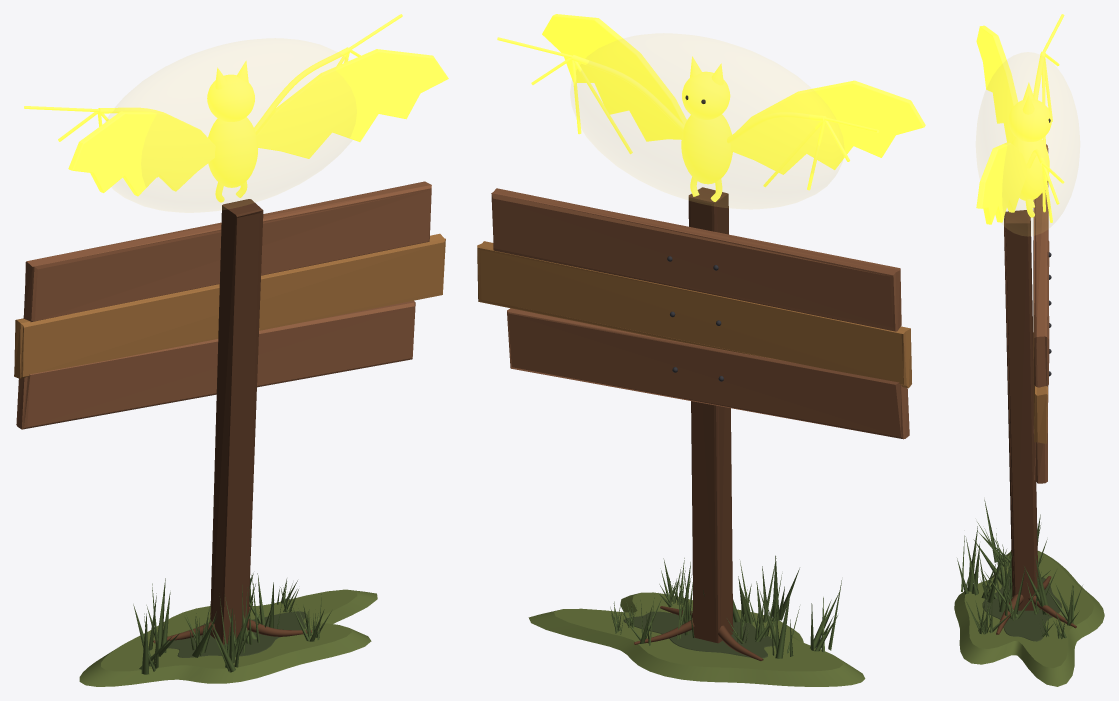
The model's file is BAYOU_BAT_SIGN.glb.
3 views of the same model, side by side, from view 1: azimuth 30°, elevation 25°; view 2: azimuth 150°, elevation 25°; view 3: azimuth 270°, elevation 25° (orthographic). The views are drawn at different scales.
Parts seen in each view (by area): view 1: SignFace (×3), VFX_Pulse_BatHalo, Glow_Bat_Wing (×2), Post, Ground, Grass, Glow_Bat_Body, Glow_Bat_WingBones (×2), Ground_Mud, Glow_Bat_Head, Roots; view 2: SignFace (×3), VFX_Pulse_BatHalo, Glow_Bat_Wing (×2), Ground, Post, Grass, Glow_Bat_WingBones (×2), Glow_Bat_Body, Ground_Mud, Glow_Bat_Head, Roots; view 3: VFX_Pulse_BatHalo, Post, Ground, Glow_Bat_Wing (×2), SignFace (×3), Grass, Ground_Mud, Glow_Bat_WingBones (×2), Glow_Bat_Head, Glow_Bat_Body, Roots.
Boxes of the visible parts, x1,y1,x2,y2 form: SignFace (×3): (14,181,445,429); VFX_Pulse_BatHalo: (107,38,356,212); Glow_Bat_Wing (×2): (68,49,448,196); Post: (210,199,263,644); Ground: (79,589,377,686); Grass: (133,573,331,674); Glow_Bat_Body: (208,117,257,187); Glow_Bat_WingBones (×2): (24,14,402,177); Ground_Mud: (166,611,306,657); Glow_Bat_Head: (207,74,254,121); Roots: (153,604,311,643); SignFace (×3): (477,188,911,439); VFX_Pulse_BatHalo: (570,34,843,208); Glow_Bat_Wing (×2): (542,14,925,174); Ground: (528,592,865,686); Post: (688,187,733,643); Grass: (610,555,841,658); Glow_Bat_WingBones (×2): (497,37,879,190); Glow_Bat_Body: (681,114,732,184); Ground_Mud: (623,611,774,658); Glow_Bat_Head: (682,71,730,119); Roots: (634,606,763,660); VFX_Pulse_BatHalo: (976,52,1079,235); Post: (1004,210,1038,610); Ground: (954,551,1104,686); Glow_Bat_Wing (×2): (976,25,1026,224); SignFace (×3): (1033,144,1049,483); Grass: (957,499,1082,638); Ground_Mud: (982,577,1061,641); Glow_Bat_WingBones (×2): (1026,14,1064,222); Glow_Bat_Head: (1008,99,1051,141); Glow_Bat_Body: (1011,137,1049,200); Roots: (996,576,1076,634).
Bounding box in the file's own units: 10.27 × 13.72 × 3.45.
